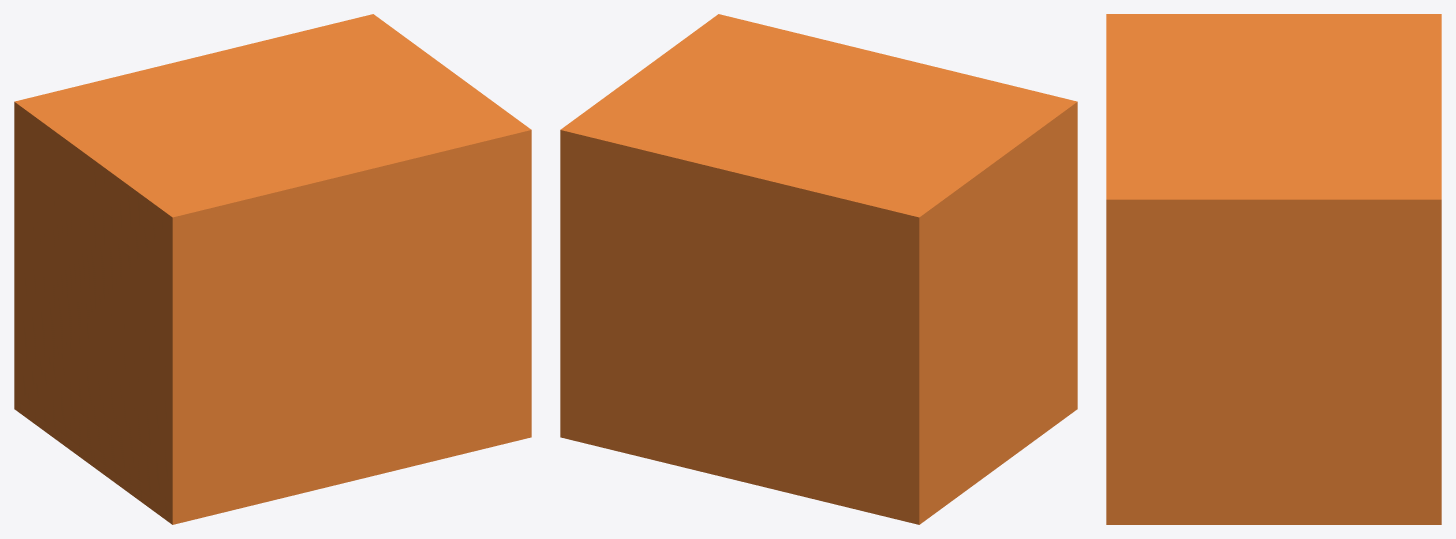
The model's file is viewport-prop.glb.
3 renders of one model, left to right at view 1: azimuth 30°, elevation 25°; view 2: azimuth 150°, elevation 25°; view 3: azimuth 270°, elevation 25°, orthographic. The views are drawn at different scales.
Bounding box in the file's own units: 1.1 × 0.9 × 0.84.
